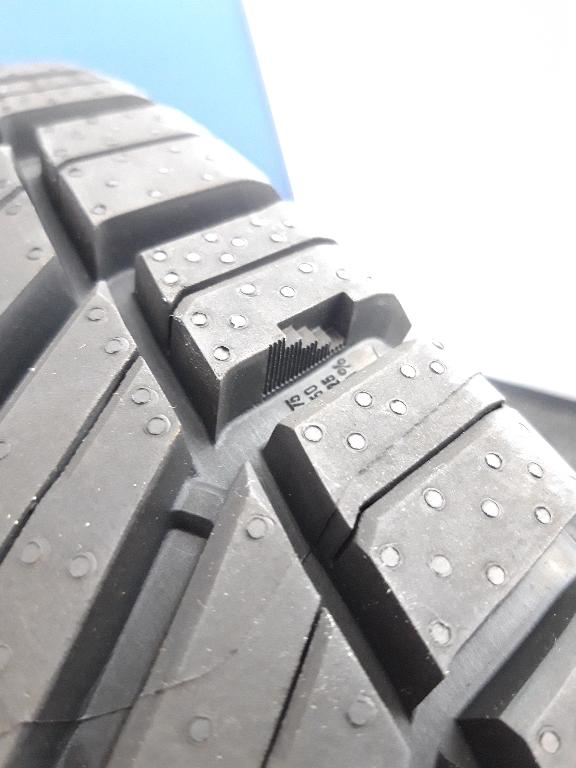temoin:100: (260, 289, 360, 404)
